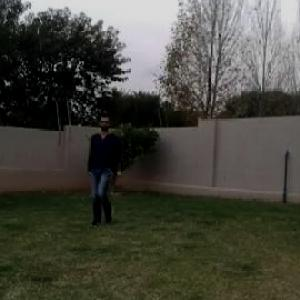follow: (86, 112, 116, 227)
